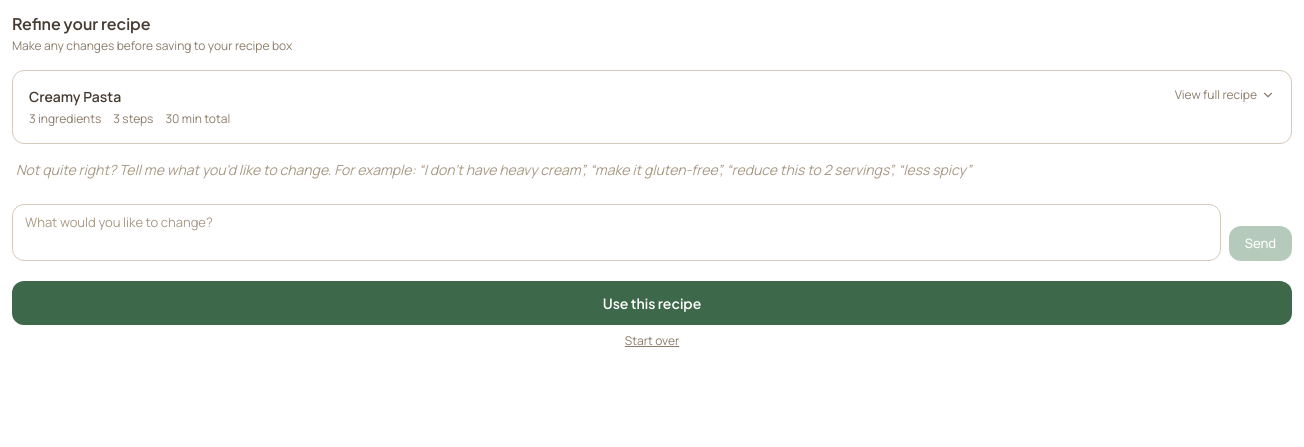
Scenario: T09 - Successful refinement updates currentRecipe in panel state › updates the recipe preview title after refinement
The image size is (1304, 447).
Type "make it dairy-free" into the text box with placeholder "What would you like to change?" at (616, 232), box [12, 204, 1221, 261]
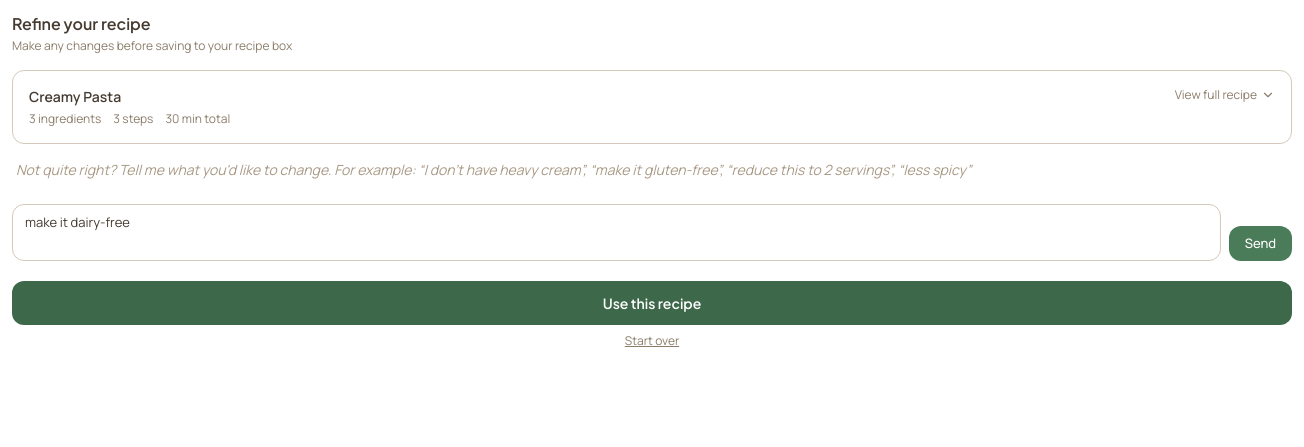
Click the button "Send" at (1260, 243), box [1229, 226, 1292, 261]
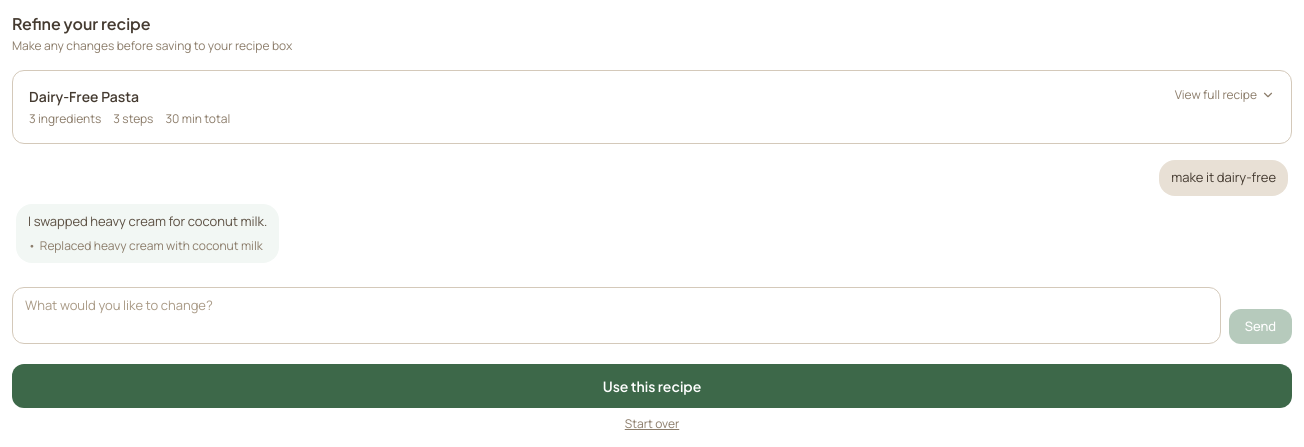
Now the text "Dairy-Free Pasta" is shown, box [29, 87, 139, 106]
